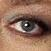eye: (21, 21, 34, 31)
